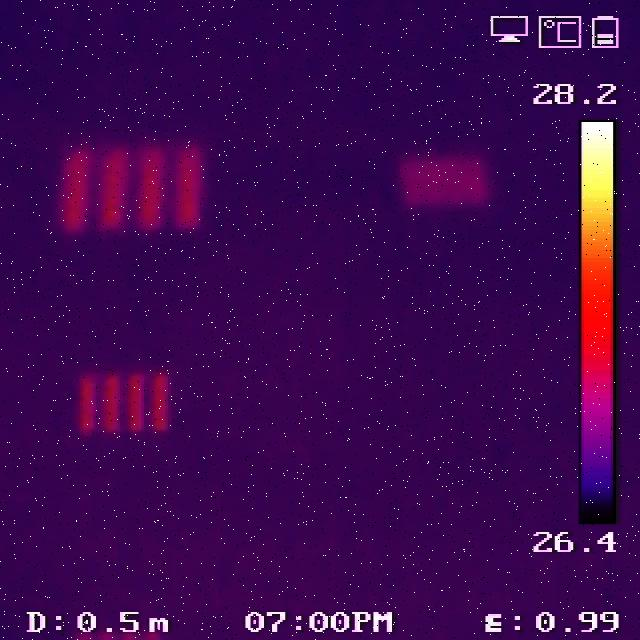Distinguishable 4-bar target: (60, 141, 205, 232), (70, 373, 174, 431)
Indistinguishable 4-bar target: (399, 150, 489, 205)
